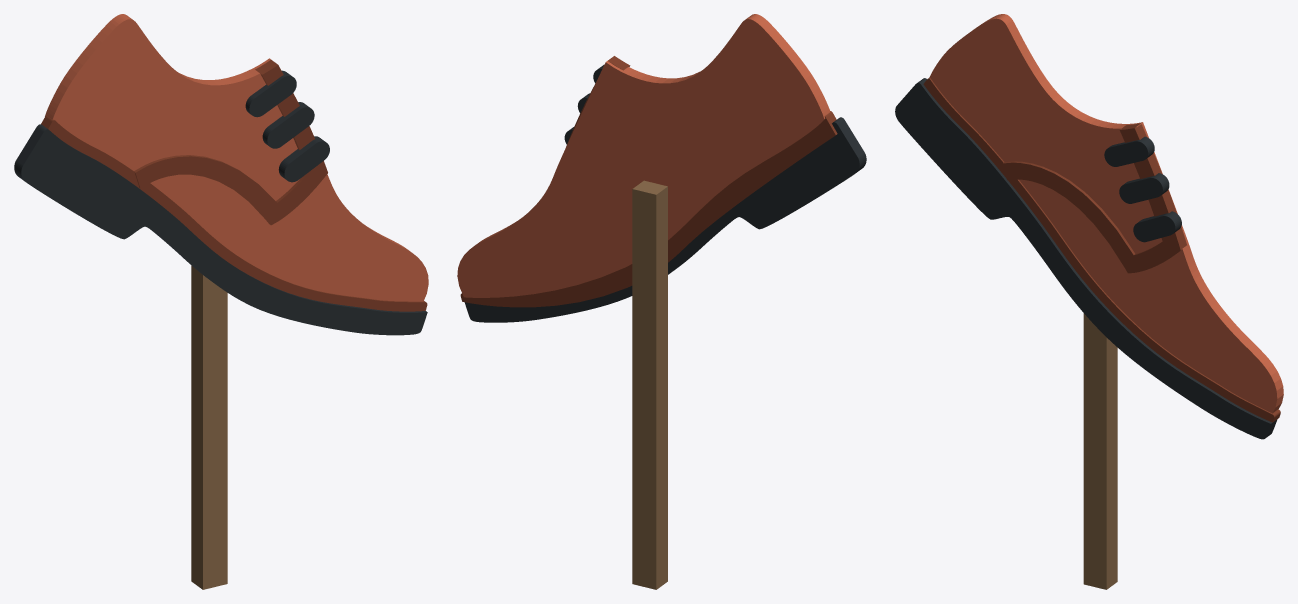
Rendered from chaussure.glb.
The picture shows the model from 3 angles, left to right: view 1: azimuth 30°, elevation 25°; view 2: azimuth 150°, elevation 25°; view 3: azimuth 330°, elevation 25°; orthographic projection. The views are drawn at different scales.
Bounding box in the file's own units: 1 × 1.39 × 0.109.
